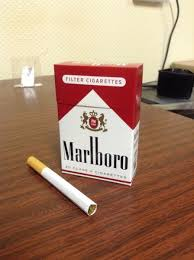marlboro: (60, 66, 134, 173)
